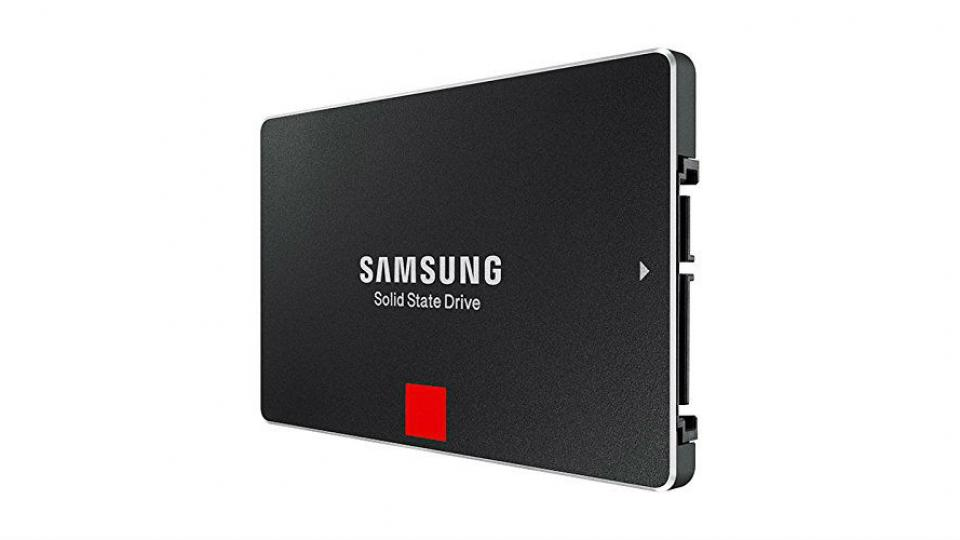samsung-hdd-240gb: (251, 50, 734, 505)
